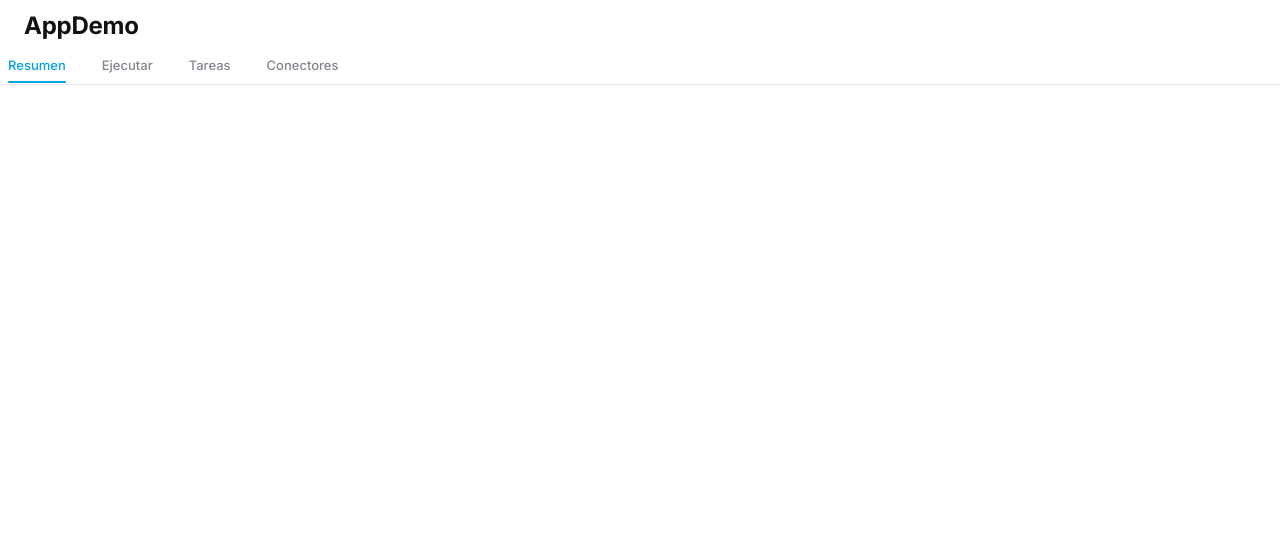
it: PanelDelProyecto › con la ranura de Ejecutar hay pestaña «Ejecutar» y enseña lo que se le pasa
Click the tab "Ejecutar" at coordinates (127, 71), box x1=102 y1=57 x2=153 y2=84
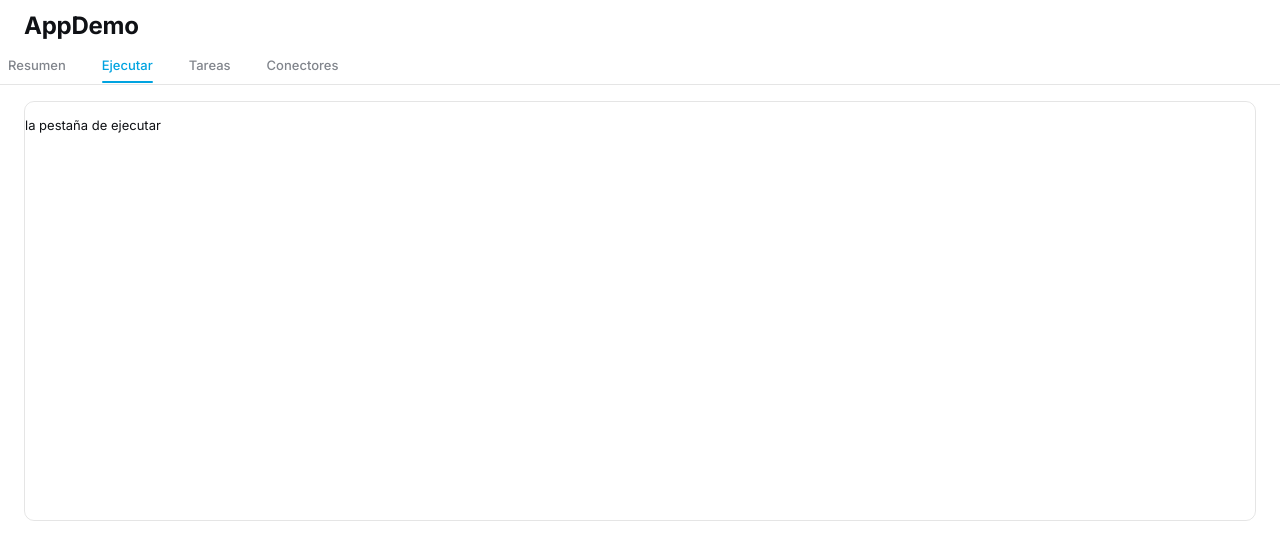
Check: the text "la pestaña de ejecutar" is shown, box x1=25 y1=117 x2=161 y2=133
